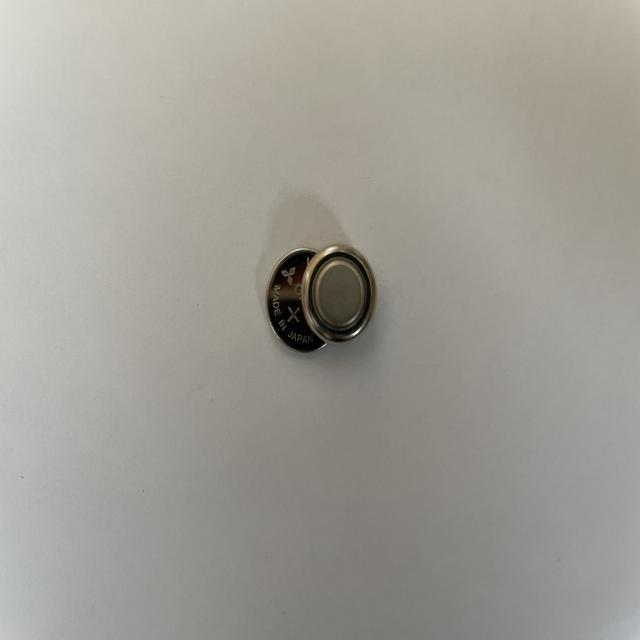COIN: (302, 245, 376, 346), (266, 249, 326, 352)
